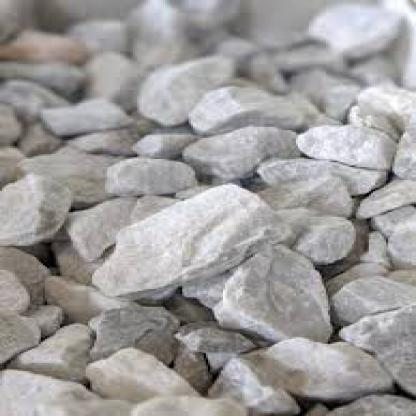Metamorphic_Marble: (90, 175, 296, 310), (248, 332, 382, 408), (75, 347, 217, 413), (184, 77, 315, 135), (0, 168, 73, 246), (330, 268, 414, 321)
